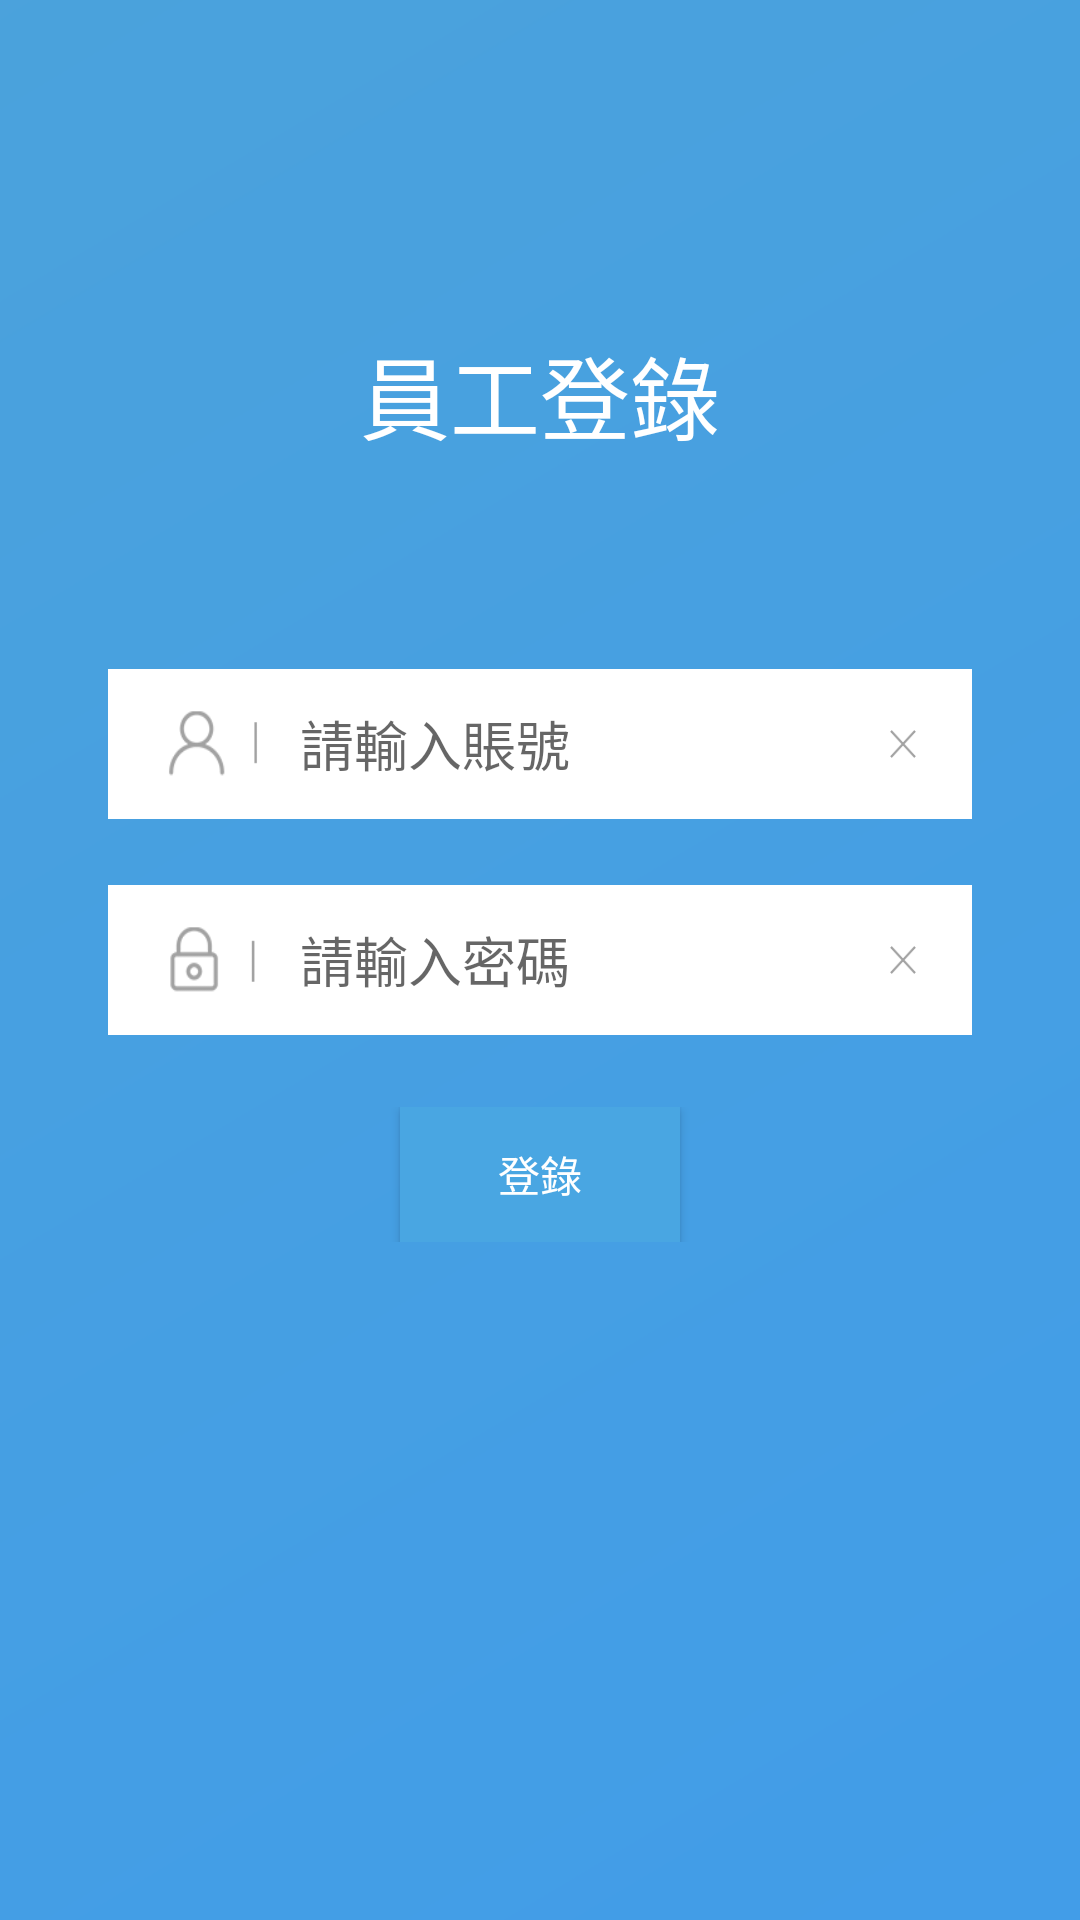

Named icons in this screenshot (1080×1920) and their centers, point (x, y):
delete: point (903, 744), point (903, 960)
